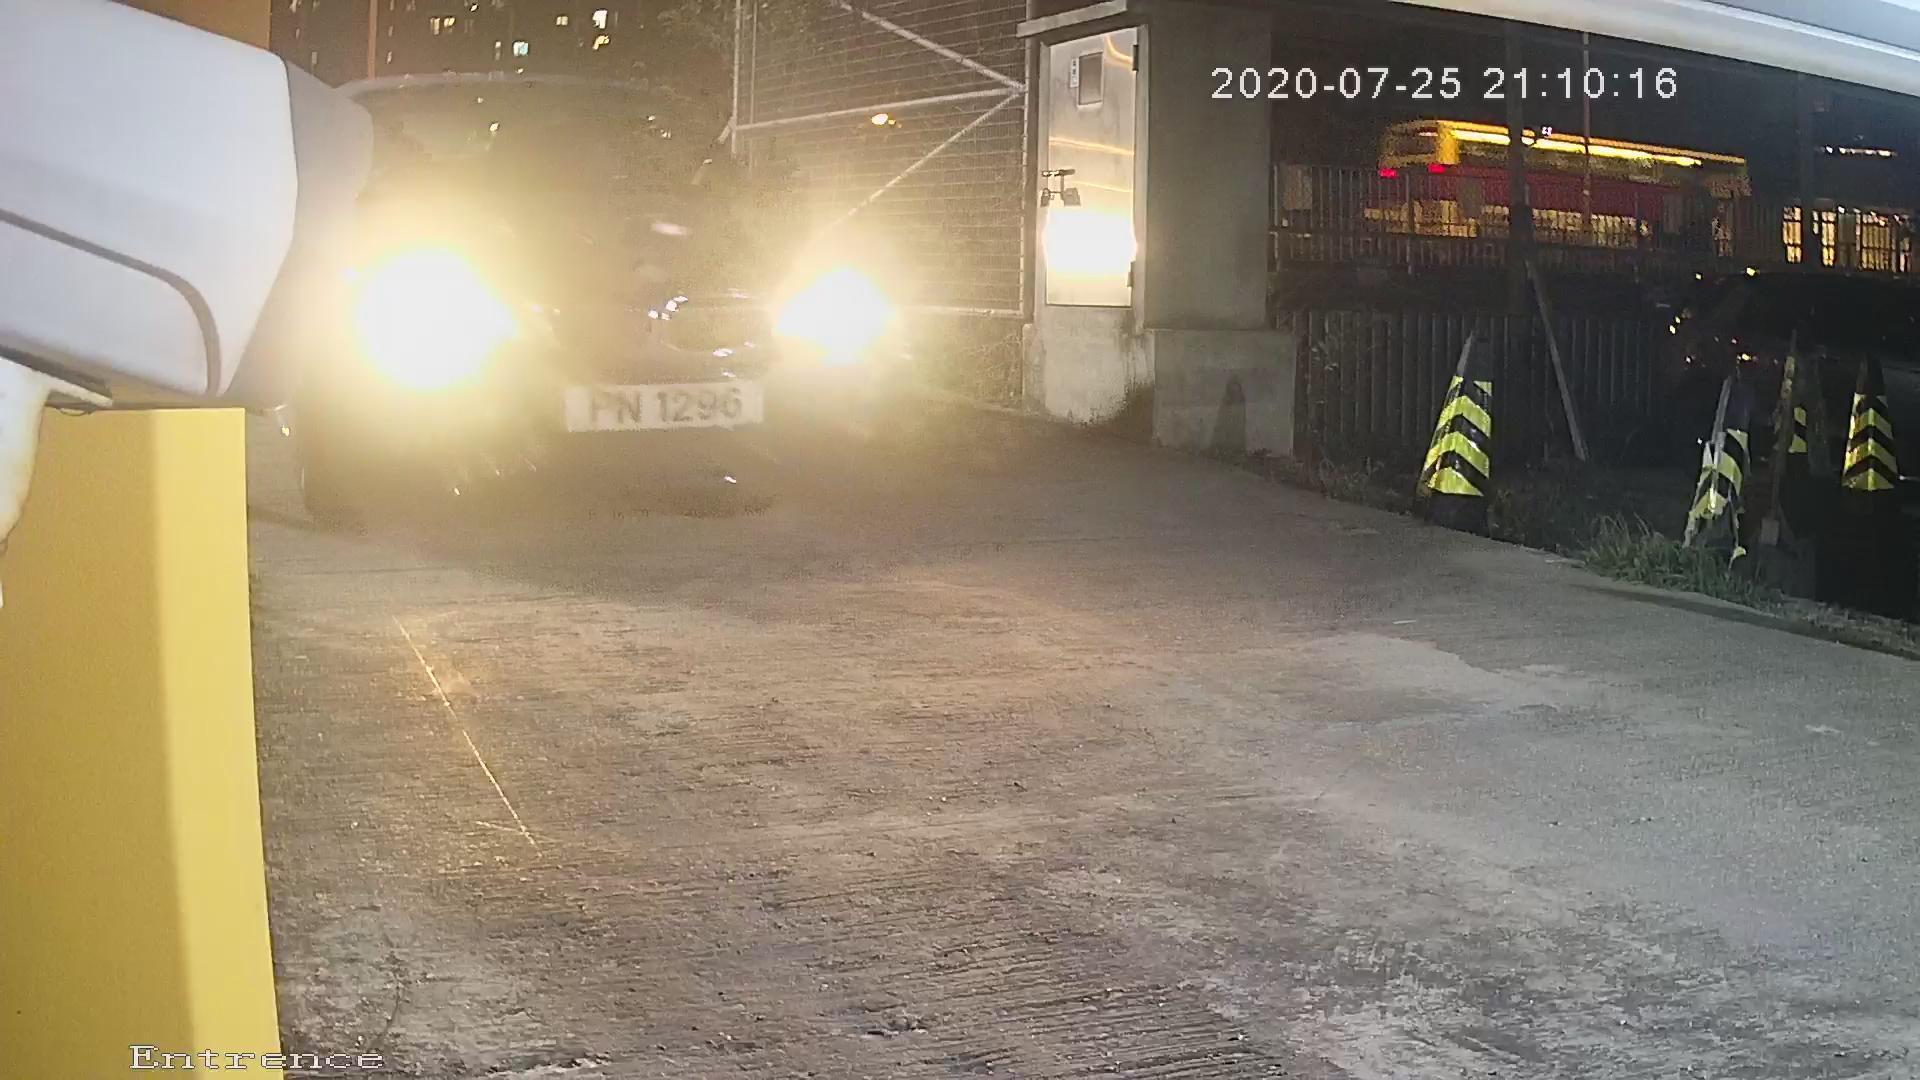privatecar: (232, 40, 1004, 550)
